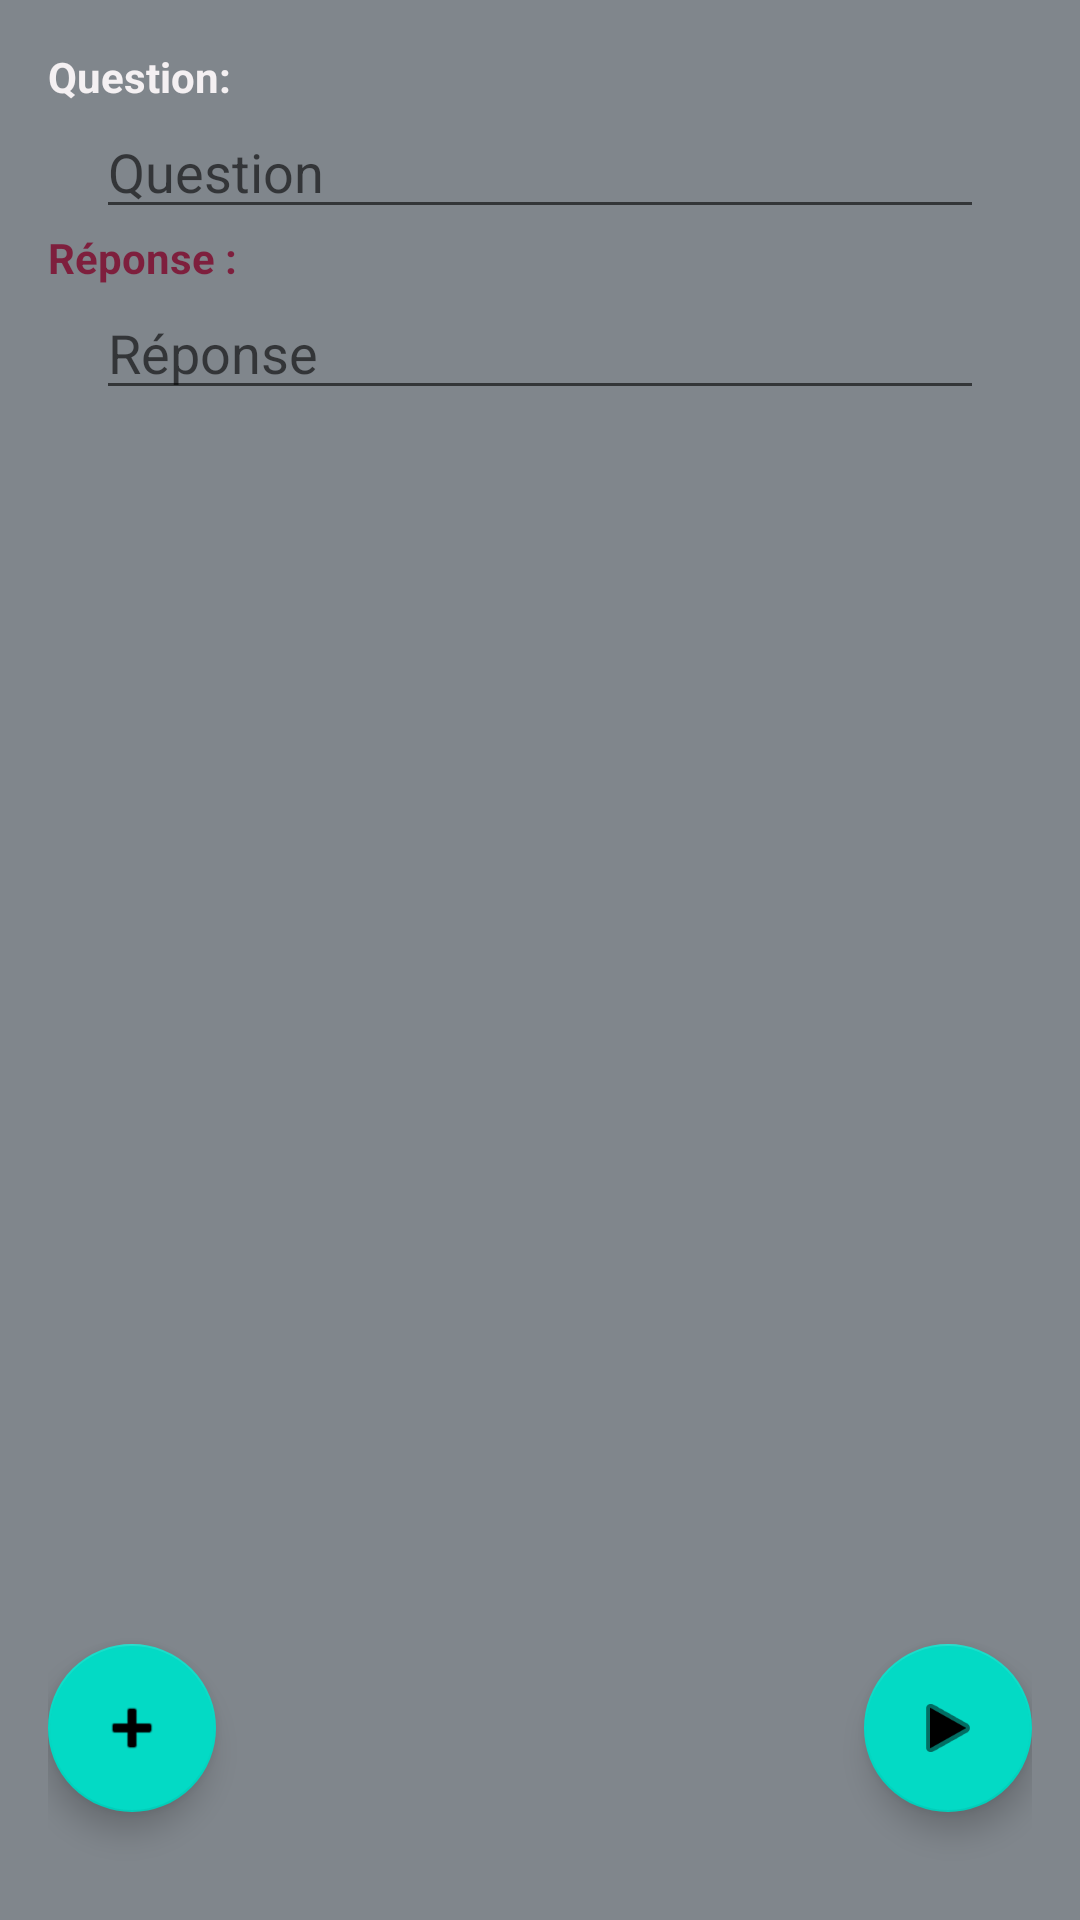

Point at icon controls on the screen. Image size 1080x1920, points as [x,y].
add: [132,1728]
play: [948,1728]
